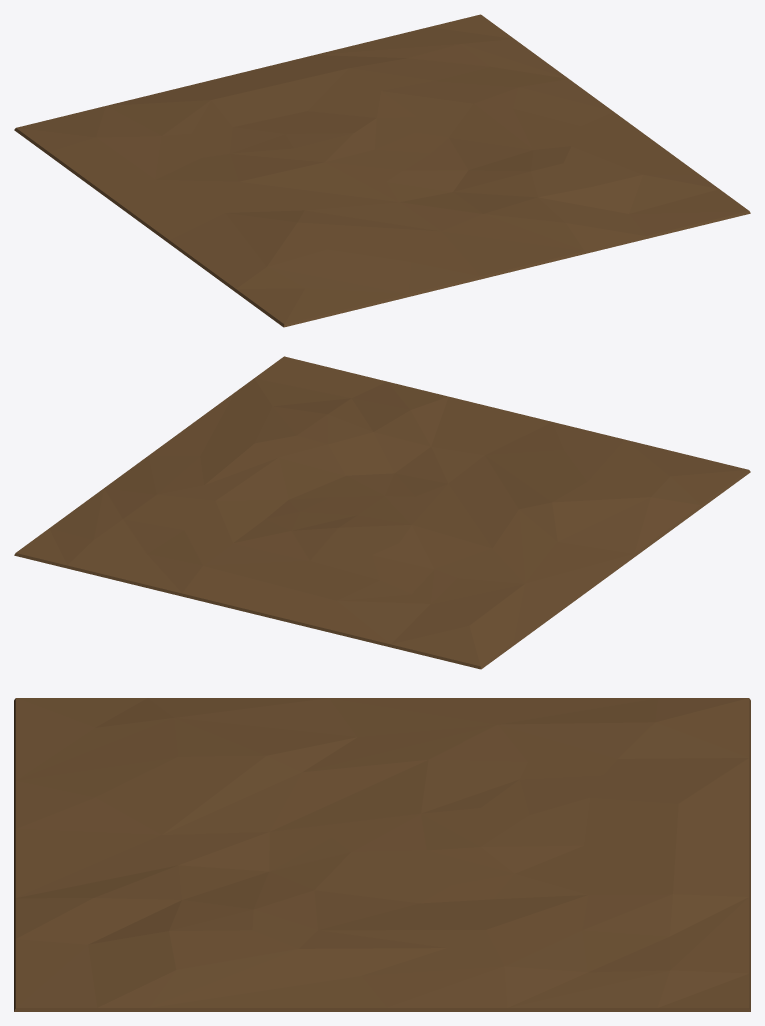
Rendered from Mesh_Landscape_Mud_06.FBX.
The picture shows the model from 3 angles, top to bottom: view 1: azimuth 30°, elevation 25°; view 2: azimuth 150°, elevation 25°; view 3: azimuth 270°, elevation 25°; orthographic projection. The views are drawn at different scales.
Parts seen in each view (by area): view 1: Mesh_Landscape_Mud_06; view 2: Mesh_Landscape_Mud_06; view 3: Mesh_Landscape_Mud_06.
Part boxes in pixels (left/top/right/bottom): Mesh_Landscape_Mud_06: left=14, top=14, right=750, bottom=327; Mesh_Landscape_Mud_06: left=14, top=356, right=750, bottom=669; Mesh_Landscape_Mud_06: left=14, top=698, right=750, bottom=1011.
Size of the model in its own units: 402 by 402 by 9.38.
